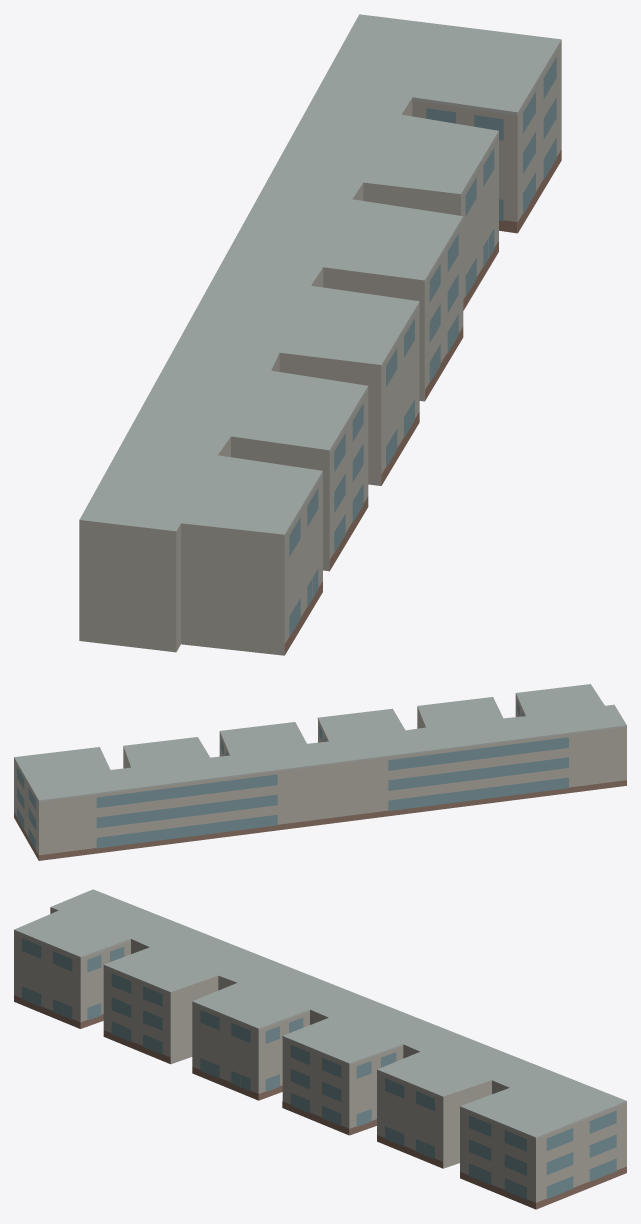
Rendered from survey-upis-32590701.glb.
3 renders of one model, top to bottom at view 1: azimuth 30°, elevation 25°; view 2: azimuth 150°, elevation 25°; view 3: azimuth 270°, elevation 25°, orthographic. The views are drawn at different scales.
Parts seen in each view (by area): view 1: survey-upis-32590701.tmp; view 2: survey-upis-32590701.tmp; view 3: survey-upis-32590701.tmp.
Boxes of the visible parts, box(x1,y1,x2,y2) form: survey-upis-32590701.tmp: box(79, 14, 561, 655); survey-upis-32590701.tmp: box(14, 684, 626, 860); survey-upis-32590701.tmp: box(14, 889, 626, 1209).
Size of the model in its own units: 67.57 by 9.15 by 70.51.
